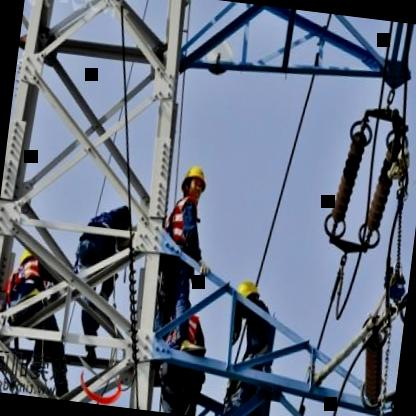helmet: (232, 271, 262, 318), (180, 160, 208, 204)
